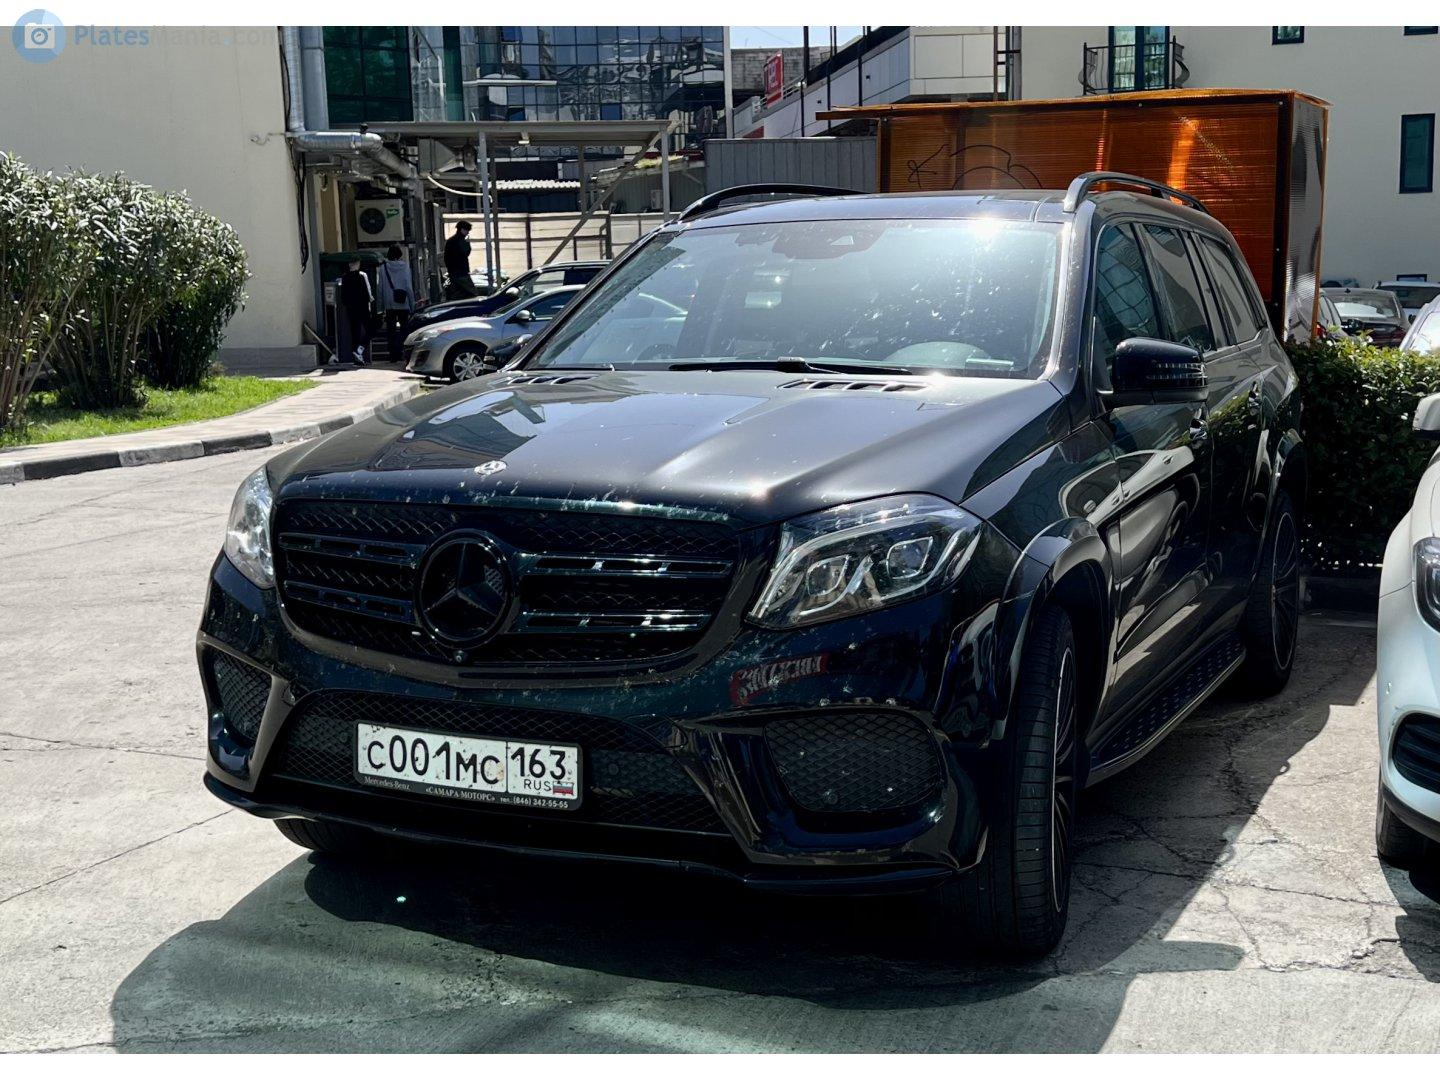license-plateSW: (359, 727, 580, 807)
